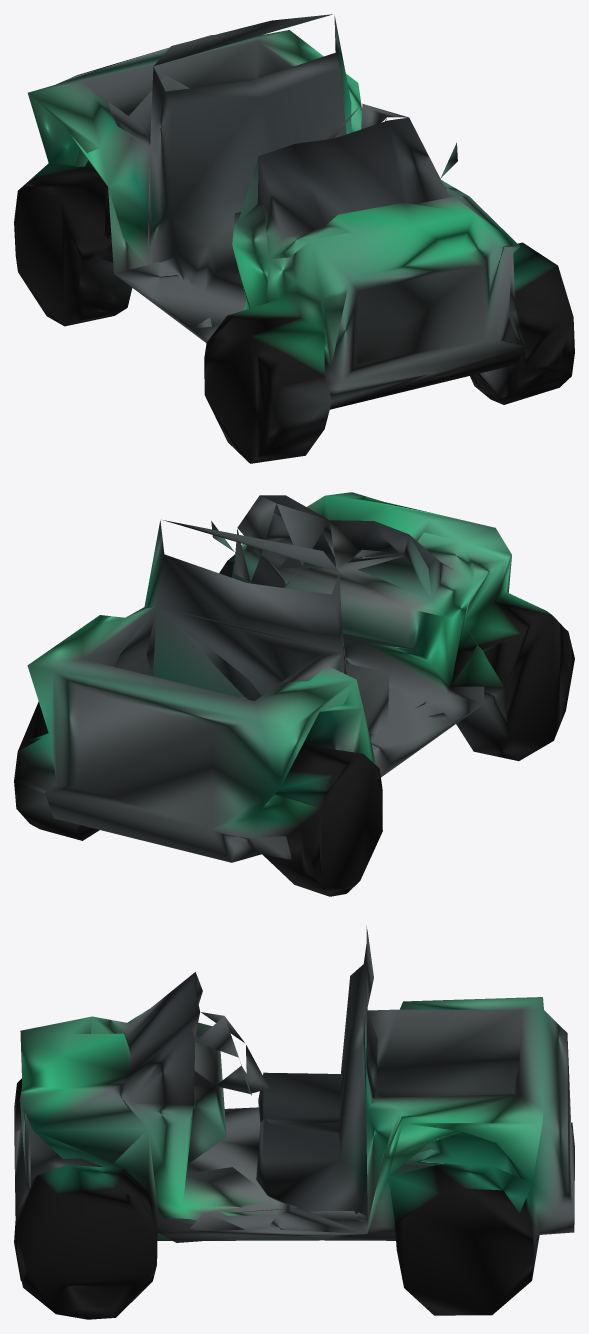
Rendered from gen3d-ride-lod1.glb.
3 views of the same model, one above another, from view 1: azimuth 30°, elevation 25°; view 2: azimuth 150°, elevation 25°; view 3: azimuth 270°, elevation 25° (orthographic).
Parts seen in each view (by area): view 1: part_0; view 2: part_0; view 3: part_0.
Boxes of the visible parts, box(x1,y1,x2,y2) form: part_0: box(14, 14, 574, 463); part_0: box(14, 492, 574, 896); part_0: box(14, 925, 574, 1319).
Size of the model in its own units: 1.1 by 0.9902 by 1.75.
